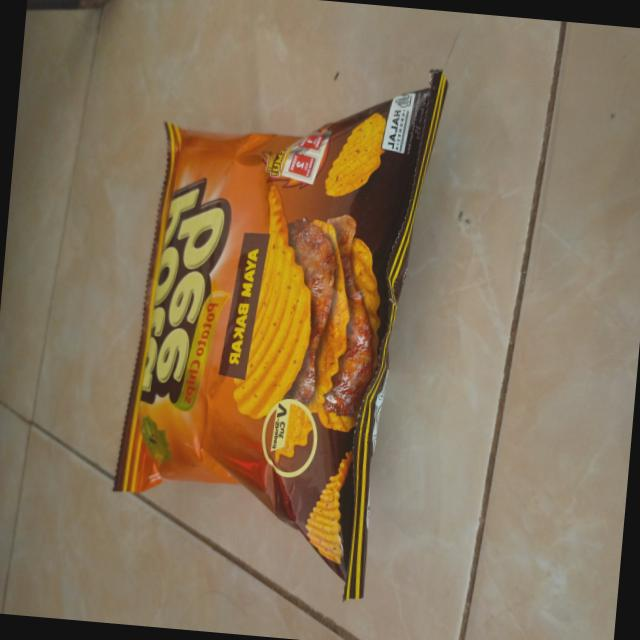potabee-ayam-bakar: (104, 41, 452, 606)
